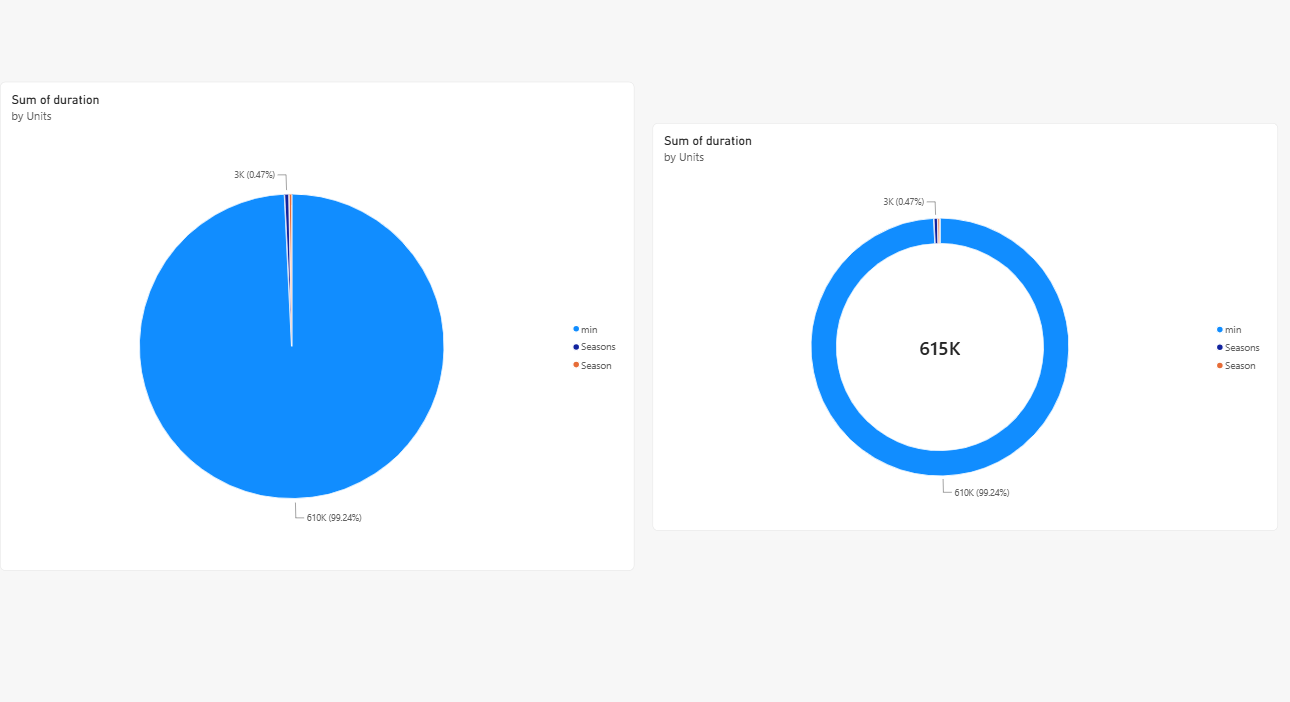

The dashboard page shown, as its layout file describes it:
{"tool":"powerbi","page":{"name":"Pie/Donut","canvas":[1920,1080],"ordinal":4},"visuals":[{"type":"pieChart","fields":{"Category":["netflix_titles.Units"],"Y":["Sum(netflix_titles.duration)"]},"box":[0,127.6,918,708.1],"z":0},{"type":"donutChart","fields":{"Category":["netflix_titles.Units"],"Y":["Sum(netflix_titles.duration)"]},"box":[944.8,187.3,905.7,590.7],"z":1000}]}

Visuals, with their boxes on the page's 1920x1080 design canvas (x1, y1, x2, y2). These are canvas units, not pixel positions in the 1290x702 screenshot, which may show the page scaled, cropped or inside an application window:
pieChart - netflix_titles.Units x Sum(netflix_titles.duration): locate(0, 128, 918, 836)
donutChart - netflix_titles.Units x Sum(netflix_titles.duration): locate(945, 187, 1850, 778)
